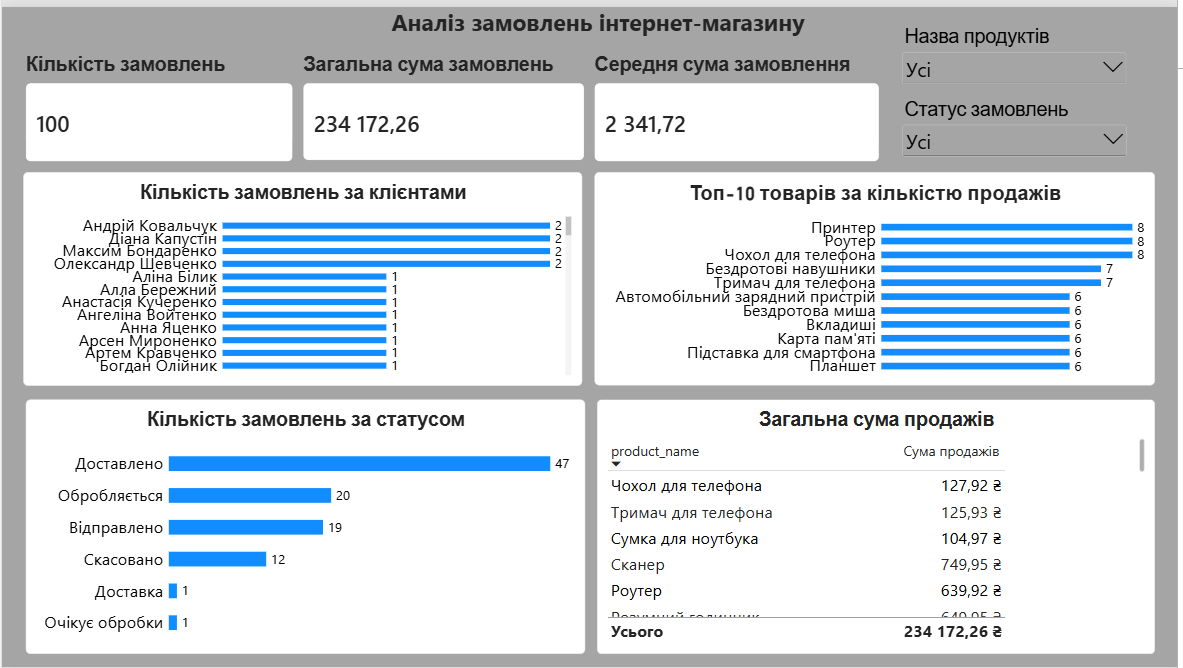

Layout of this report page (visuals, bound fields, positions):
{"tool":"powerbi","page":{"name":"Аналіз замовлень","canvas":[1920,1080],"ordinal":0},"visuals":[{"type":"cardVisual","title":"Загальна сума замовлень","fields":{"Data":["products.Загальна сума замовлень"]},"box":[493.2,75.5,459.2,175.5],"z":0},{"type":"clusteredBarChart","title":"Топ-10 товарів за кількістю продажів","fields":{"Category":["products.product_name"],"Y":["products.Кількість проданих одиниць"]},"box":[969.4,269.4,916.3,349],"z":1000},{"type":"clusteredBarChart","title":"Кількість  замовлень за клієнтами","fields":{"Category":["customers.Customer_Name"],"Y":["Count(orders.order_id)"]},"box":[34.7,269.7,913.2,349.4],"z":2000},{"type":"clusteredBarChart","title":"Кількість замовлень за статусом","fields":{"Category":["orders.order_status"],"Y":["CountNonNull(orders.order_id)"]},"box":[38.8,640.8,914.3,416.3],"z":3000},{"type":"tableEx","title":"Загальна сума продажів","fields":{"Values":["products.product_name","order_items.Загальна сума замовлень"]},"box":[973.5,640.8,912.2,416.3],"z":4000},{"type":"textbox","box":[585.7,0,775.5,149],"z":5000},{"type":"cardVisual","title":"Середня сума замовлення","fields":{"Data":["order_items.Середня сума замовлення"]},"box":[968.4,75.6,465.3,177.6],"z":6000},{"type":"cardVisual","title":"Кількість замовлень","fields":{"Data":["orders.Кількість замовлень"]},"box":[38.8,75.5,436.7,177.6],"z":7000},{"type":"slicer","fields":{"Values":["products.product_name"]},"box":[1467.3,30.6,375.5,177.6],"z":8000},{"type":"slicer","fields":{"Values":["orders.order_status"]},"box":[1466.9,149.1,375.9,147.1],"z":9000}]}

Visuals, with their boxes in screenshot pixels (x1, y1, x2, y2), scaled from the page's 1920x1080 canvas onto the 1183x668 screenshot:
"Загальна сума замовлень" cardVisual: (x1=304, y1=47, x2=587, y2=155)
"Топ-10 товарів за кількістю продажів" clusteredBarChart: (x1=597, y1=167, x2=1162, y2=382)
"Кількість  замовлень за клієнтами" clusteredBarChart: (x1=21, y1=167, x2=584, y2=383)
"Кількість замовлень за статусом" clusteredBarChart: (x1=24, y1=396, x2=587, y2=654)
"Загальна сума продажів" tableEx: (x1=600, y1=396, x2=1162, y2=654)
textbox: (x1=361, y1=0, x2=839, y2=92)
"Середня сума замовлення" cardVisual: (x1=597, y1=47, x2=883, y2=157)
"Кількість замовлень" cardVisual: (x1=24, y1=47, x2=293, y2=157)
slicer - products.product_name: (x1=904, y1=19, x2=1135, y2=129)
slicer - orders.order_status: (x1=904, y1=92, x2=1135, y2=183)
